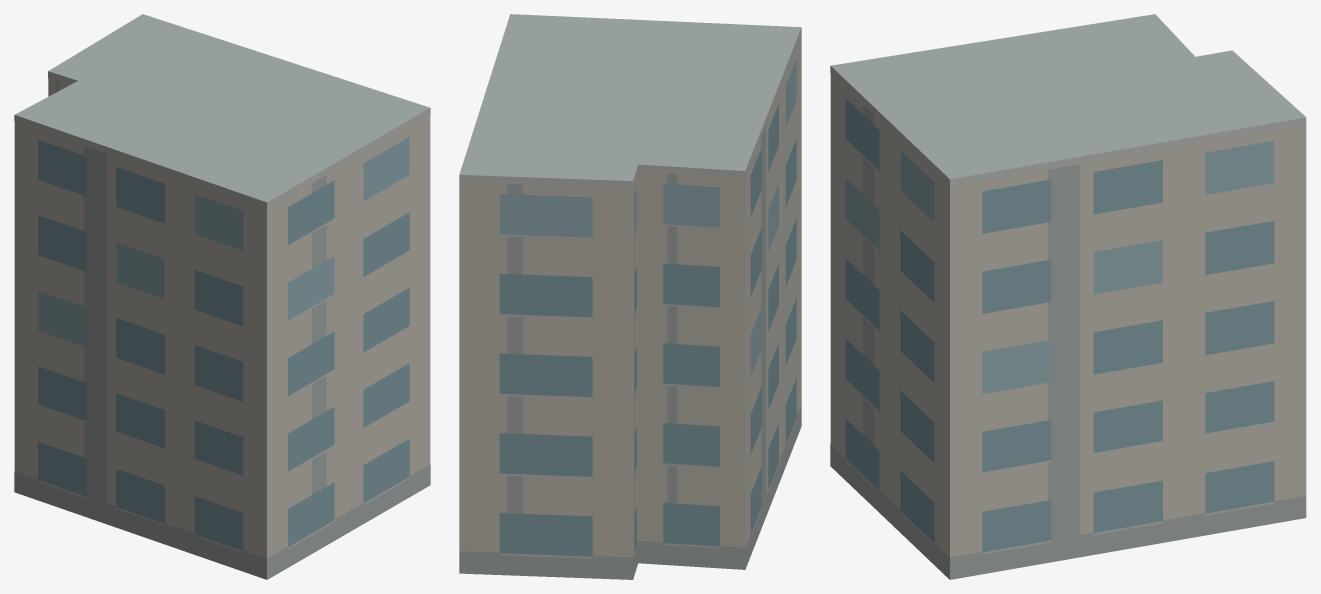
The model's file is survey-upis-32851534.glb.
3 renders of one model, left to right at view 1: azimuth 30°, elevation 25°; view 2: azimuth 150°, elevation 25°; view 3: azimuth 270°, elevation 25°, orthographic. The views are drawn at different scales.
Parts seen in each view (by area): view 1: survey-upis-32851534.tmp; view 2: survey-upis-32851534.tmp; view 3: survey-upis-32851534.tmp.
Part boxes in pixels (left/top/right/bottom): survey-upis-32851534.tmp: left=14, top=14, right=430, bottom=579; survey-upis-32851534.tmp: left=459, top=14, right=801, bottom=579; survey-upis-32851534.tmp: left=830, top=14, right=1306, bottom=579.
Size of the model in its own units: 11.6 by 13.1 by 14.11.
